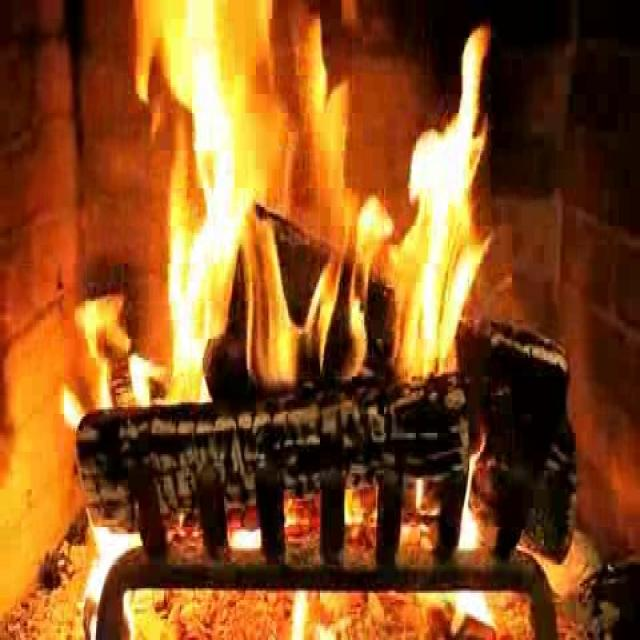fire: (124, 5, 499, 421)
